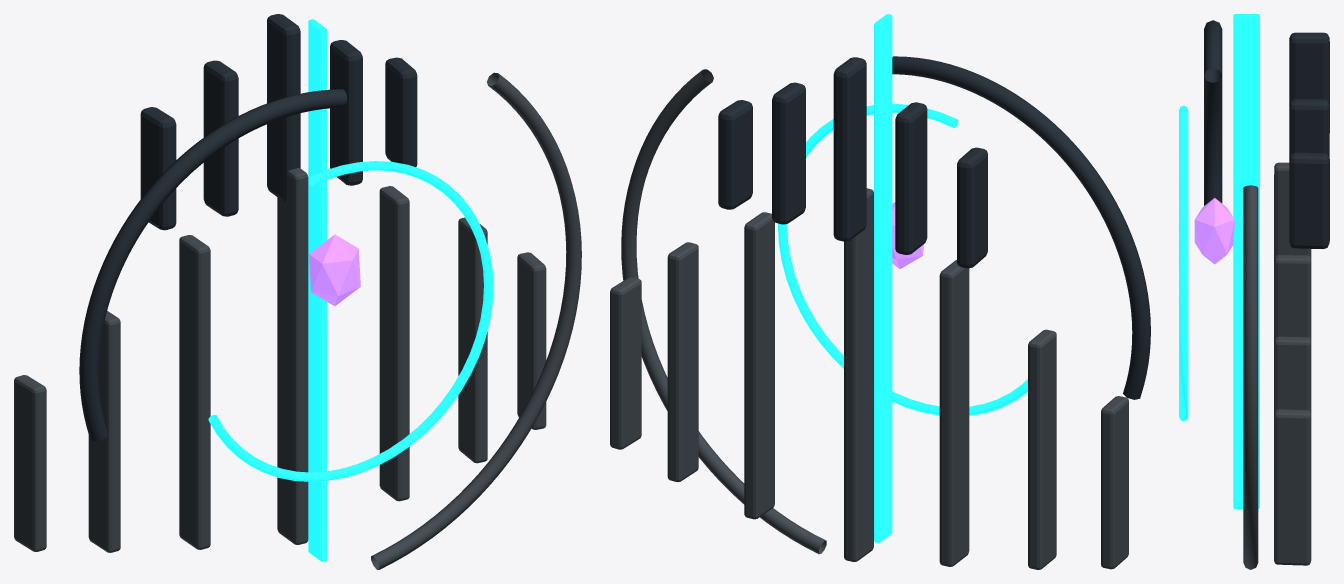
File: identity-frame.glb
3 views of the same model, side by side, from view 1: azimuth 30°, elevation 25°; view 2: azimuth 150°, elevation 25°; view 3: azimuth 270°, elevation 25° (orthographic). The views are drawn at different scales.
Parts seen in each view (by area): view 1: BC_ENV_IDENTITY_FRAME_GUNMETAL, BC_ENV_IDENTITY_FRAME_BLACK_TITANIUM, BC_ENV_IDENTITY_FRAME_CYAN_ENERGY, BC_ENV_IDENTITY_FRAME_VIOLET_ENERGY; view 2: BC_ENV_IDENTITY_FRAME_GUNMETAL, BC_ENV_IDENTITY_FRAME_BLACK_TITANIUM, BC_ENV_IDENTITY_FRAME_CYAN_ENERGY; view 3: BC_ENV_IDENTITY_FRAME_GUNMETAL, BC_ENV_IDENTITY_FRAME_BLACK_TITANIUM, BC_ENV_IDENTITY_FRAME_CYAN_ENERGY, BC_ENV_IDENTITY_FRAME_VIOLET_ENERGY.
Boxes of the visible parts, box(x1,y1,x2,y2) form: BC_ENV_IDENTITY_FRAME_GUNMETAL: box(14, 72, 581, 569); BC_ENV_IDENTITY_FRAME_BLACK_TITANIUM: box(79, 14, 417, 441); BC_ENV_IDENTITY_FRAME_CYAN_ENERGY: box(208, 19, 493, 561); BC_ENV_IDENTITY_FRAME_VIOLET_ENERGY: box(309, 234, 360, 306); BC_ENV_IDENTITY_FRAME_GUNMETAL: box(610, 69, 1128, 569); BC_ENV_IDENTITY_FRAME_BLACK_TITANIUM: box(718, 56, 1150, 399); BC_ENV_IDENTITY_FRAME_CYAN_ENERGY: box(778, 14, 1027, 542); BC_ENV_IDENTITY_FRAME_GUNMETAL: box(1243, 162, 1311, 569); BC_ENV_IDENTITY_FRAME_BLACK_TITANIUM: box(1204, 20, 1329, 248); BC_ENV_IDENTITY_FRAME_CYAN_ENERGY: box(1179, 14, 1259, 508); BC_ENV_IDENTITY_FRAME_VIOLET_ENERGY: box(1194, 198, 1234, 264).
Bounding box in the file's own units: 6.84 × 6.86 × 1.8.
